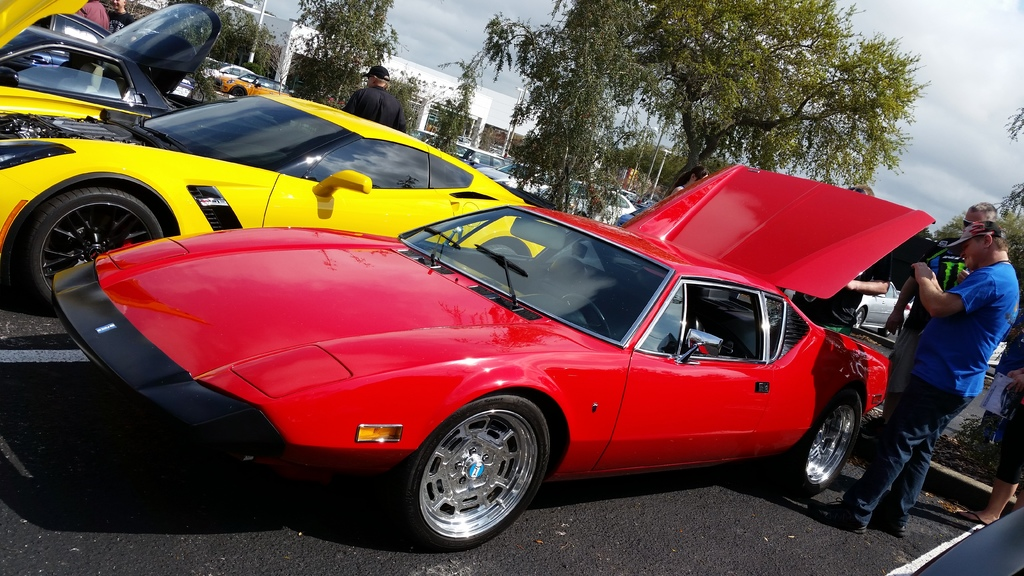mobil: (66, 146, 910, 527)
